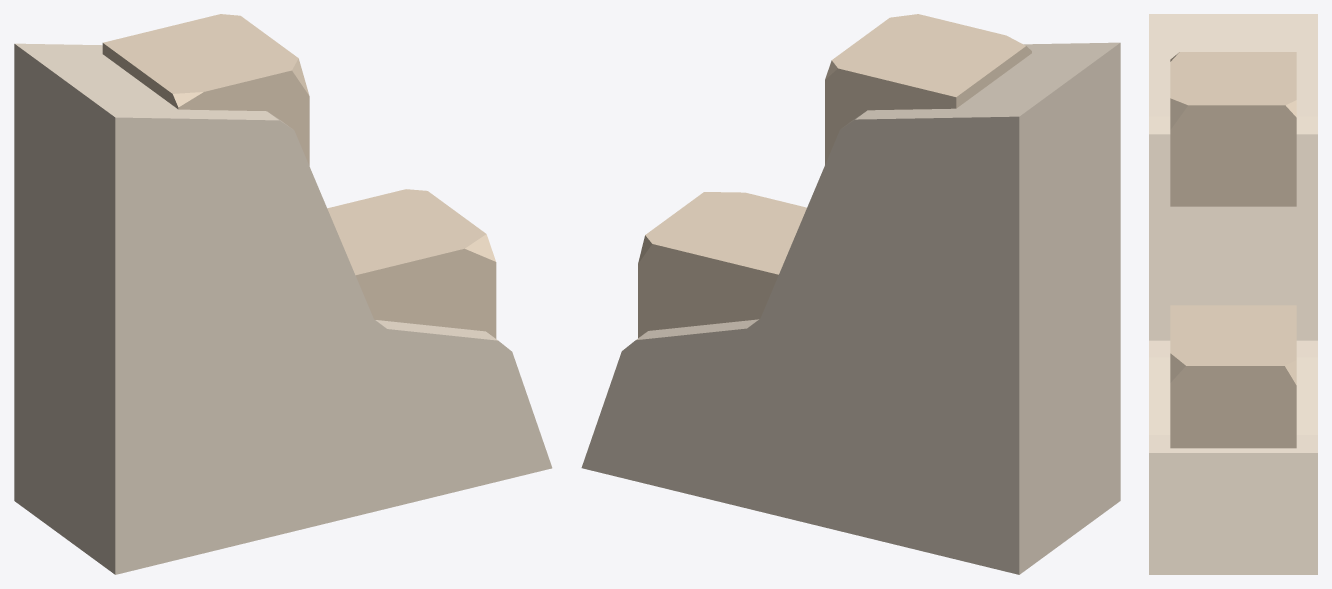
The model's file is Wall_Ruined_Corner_Outer_1.glb.
The picture shows the model from 3 angles, left to right: view 1: azimuth 30°, elevation 25°; view 2: azimuth 150°, elevation 25°; view 3: azimuth 270°, elevation 25°; orthographic projection. The views are drawn at different scales.
Visible parts, largest first — view 1: Wall_Ruined_Corner_Outer_1; view 2: Wall_Ruined_Corner_Outer_1; view 3: Wall_Ruined_Corner_Outer_1.
Boxes of the visible parts, x1,y1,x2,y2 form: Wall_Ruined_Corner_Outer_1: [14, 14, 552, 574]; Wall_Ruined_Corner_Outer_1: [581, 14, 1120, 574]; Wall_Ruined_Corner_Outer_1: [1149, 14, 1317, 574].
Bounding box in the file's own units: 0.5 × 0.5 × 0.2.
